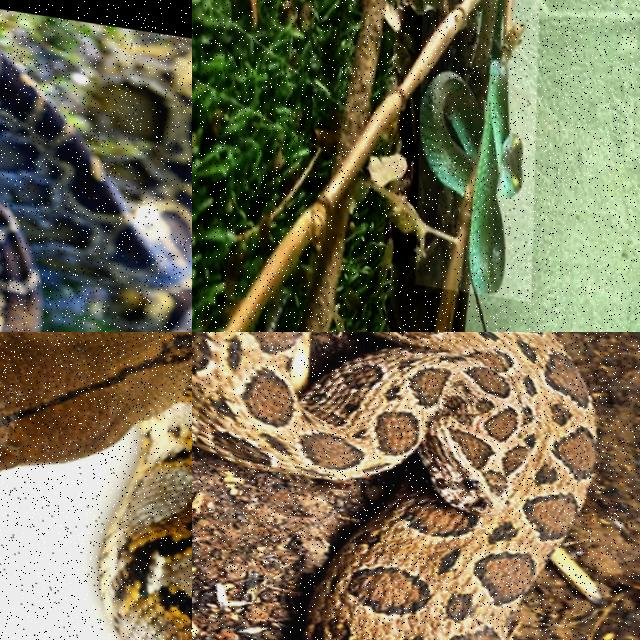Daboia siamensis: (192, 332, 595, 639)
Malayopython reticulatus: (0, 332, 191, 639)
Python bivittatus: (0, 45, 191, 331)
Trimeresurus macrops: (418, 57, 522, 294)
snake: (192, 332, 595, 639), (0, 332, 191, 639), (0, 45, 191, 331), (418, 57, 522, 294)
